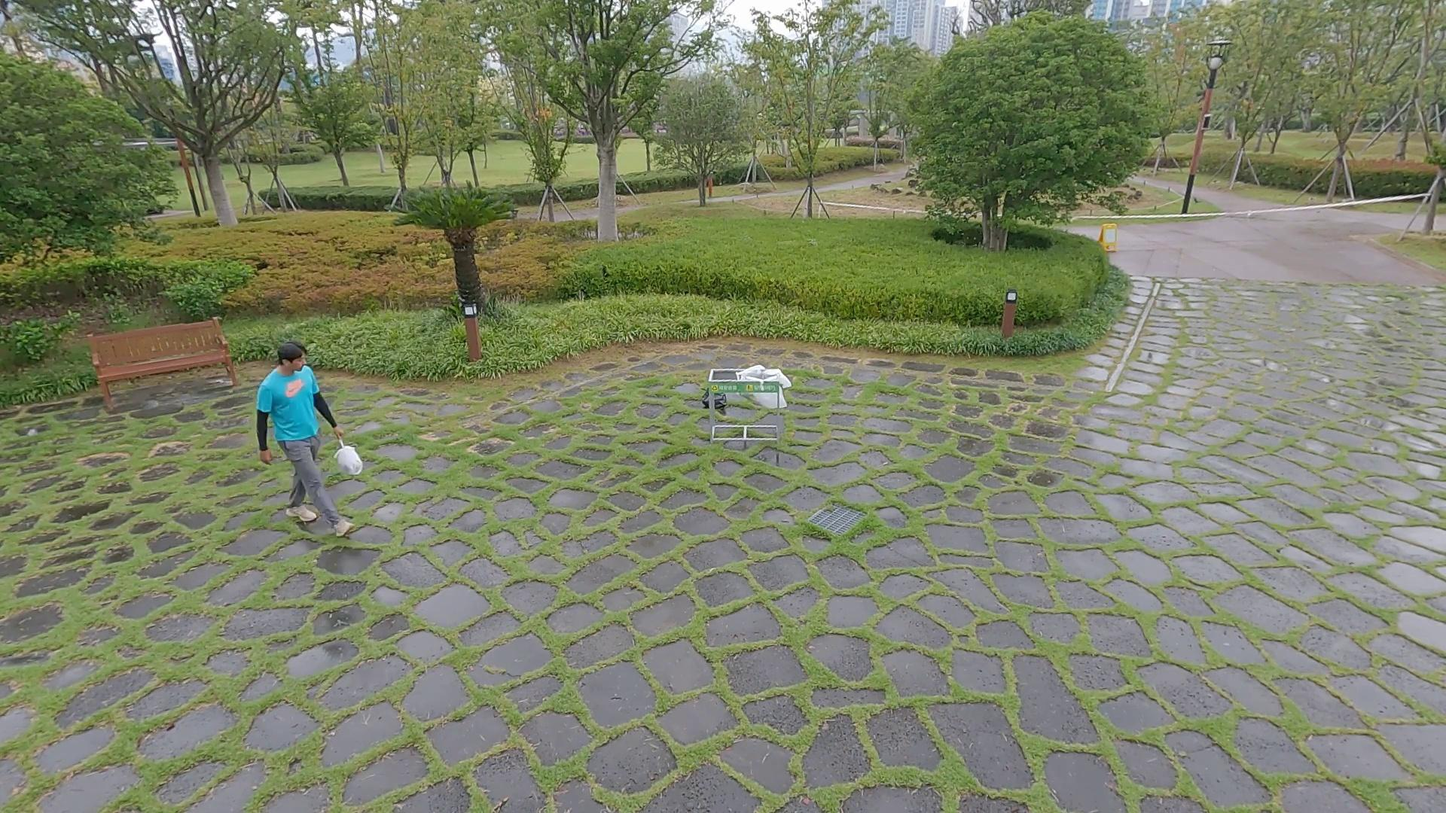person: (255, 342, 361, 539)
trash: (331, 437, 365, 478), (701, 386, 728, 408)
